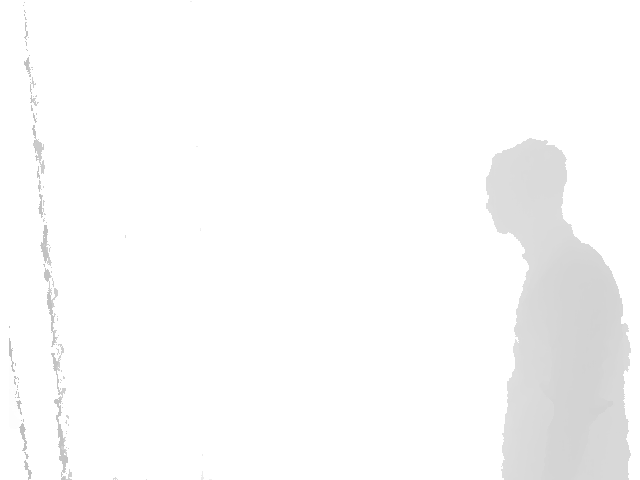head: (484, 137, 568, 235)
person: (484, 136, 634, 480)
